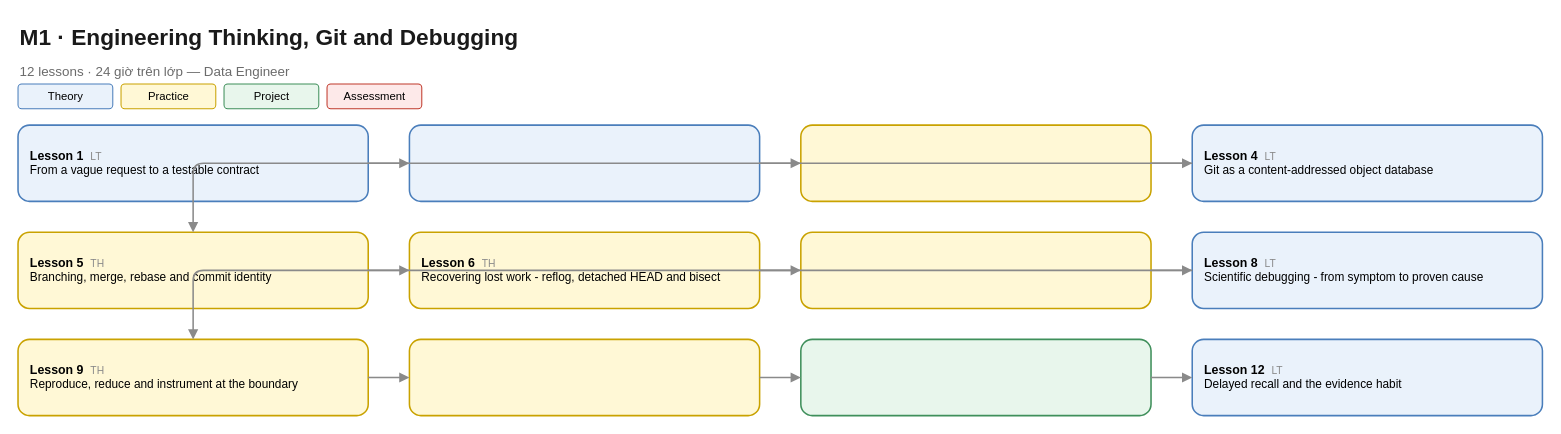
Image size: 1561x434. Some labels were removed from this diagram. The box of each missing label's shape, as (x1, y1, x2, y2) in pixels:
Lesson 10 TH Technical artifacts - README, runbook and postmortem: (408, 338, 760, 416)
Lesson 11 DA Putting it together - a small CLI with contract, tests and logs: (800, 338, 1151, 416)
Lesson 2 LT Decomposition - responsibility, interface, state and failure domain: (408, 124, 760, 202)
Lesson 3 TH Trade-offs and the architecture decision record: (800, 124, 1151, 202)
Lesson 7 TH Collaboration - small commits, review and release discipline: (800, 231, 1151, 309)
